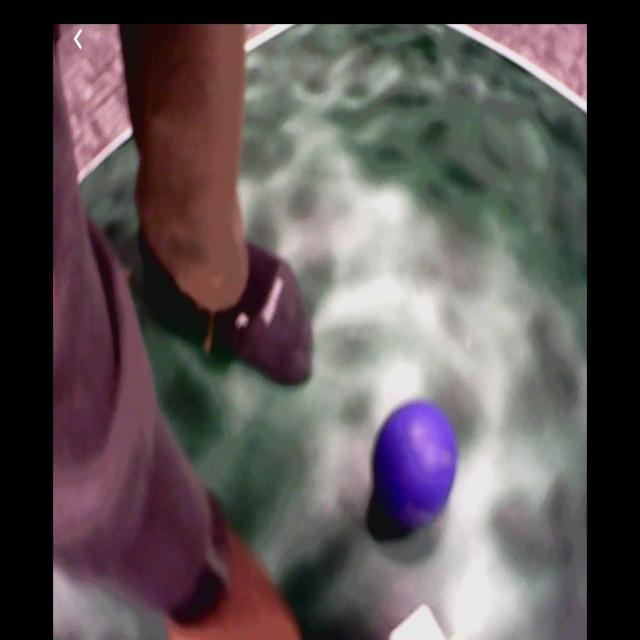ball: (374, 402, 458, 529)
